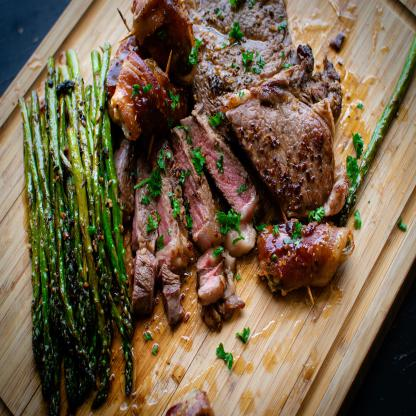Carne: (228, 86, 341, 199), (191, 0, 293, 92), (186, 106, 257, 221), (168, 122, 220, 250), (154, 146, 190, 270), (131, 160, 157, 314)
